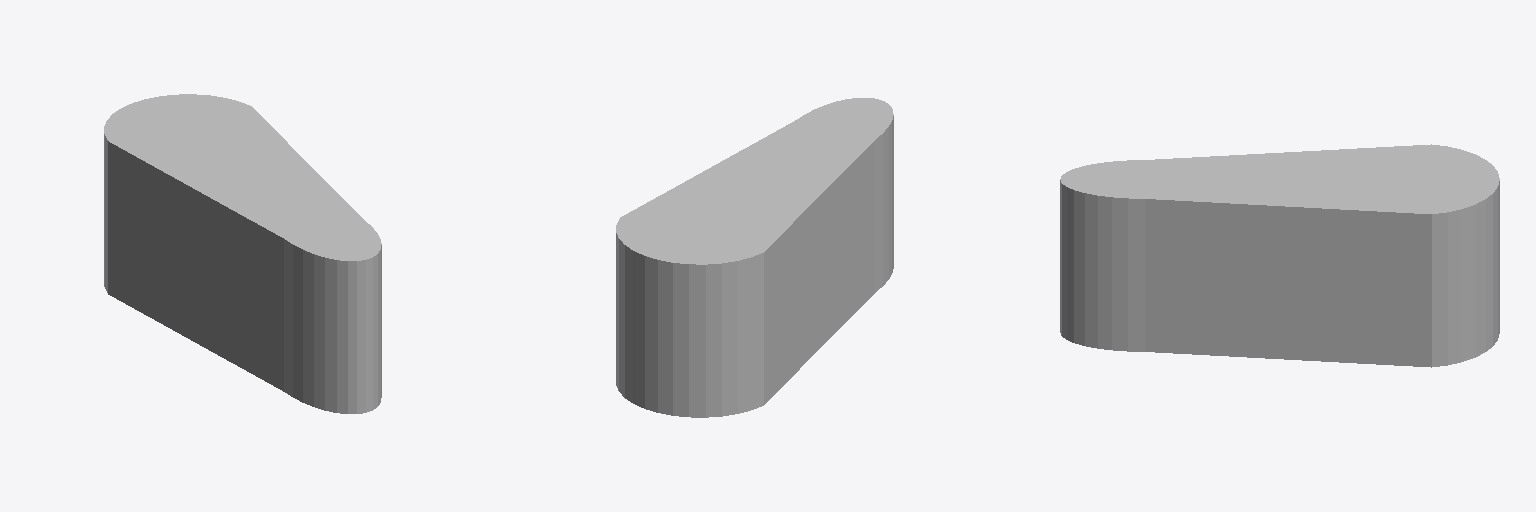
Rendered from Flipper.obj.
3 views of the same model, side by side, from view 1: azimuth 30°, elevation 25°; view 2: azimuth 150°, elevation 25°; view 3: azimuth 270°, elevation 25° (orthographic).
Visible parts, largest first — view 1: Cylinder; view 2: Cylinder; view 3: Cylinder.
Boxes of the visible parts, x1,y1,x2,y2 form: Cylinder: [104, 94, 381, 413]; Cylinder: [616, 98, 893, 417]; Cylinder: [1060, 144, 1499, 367].
Size of the model in its own units: 1.23 by 1.25 by 3.26.